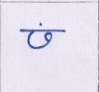anusvara: (39, 23, 42, 25)
